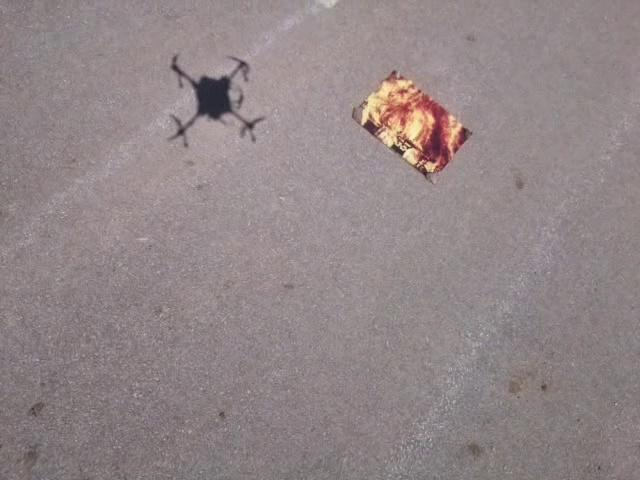fire-poster: (350, 68, 474, 185)
